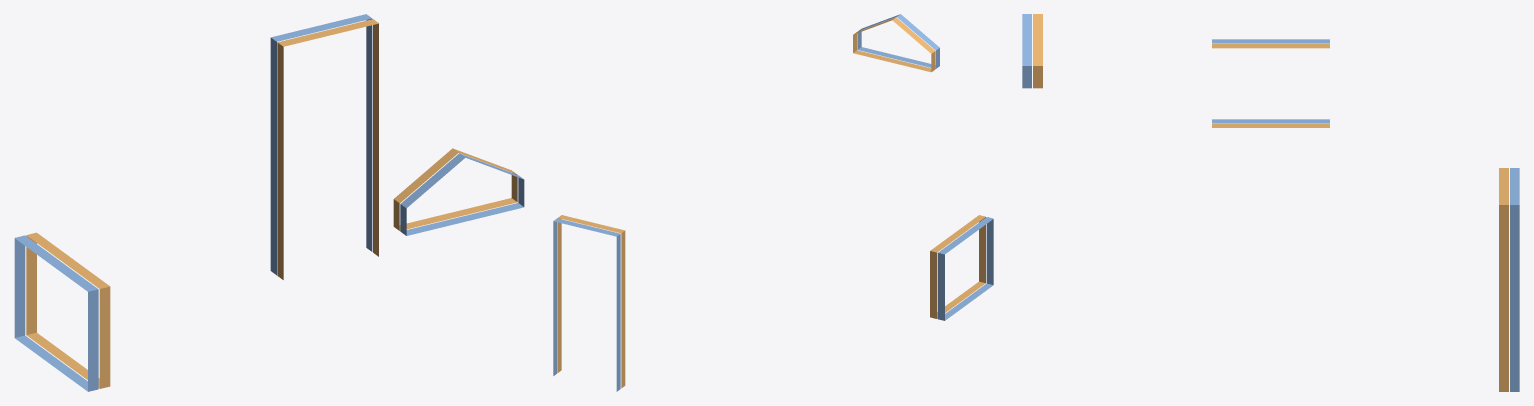
File: stage-8.glb
3 views of the same model, side by side, from view 1: azimuth 30°, elevation 25°; view 2: azimuth 150°, elevation 25°; view 3: azimuth 270°, elevation 25° (orthographic). The views are drawn at different scales.
Visible parts, largest first — view 1: Geom3D (×2); view 2: Geom3D (×2); view 3: Geom3D (×2).
Boxes of the visible parts, box(x1,y1,x2,y2) form: Geom3D (×2): box(14, 14, 524, 391); Geom3D (×2): box(553, 14, 993, 391); Geom3D (×2): box(1022, 14, 1519, 391).
Size of the model in its own units: 4.43 by 3.32 by 5.07.
